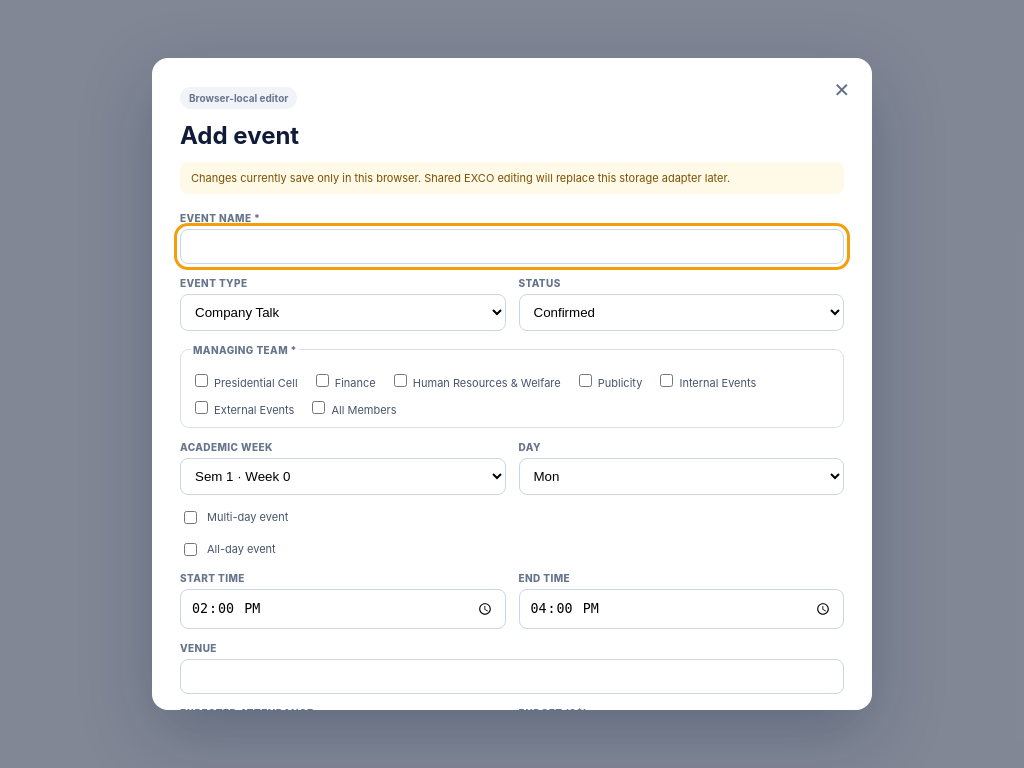
Test: EventEditor › warns before Escape discards a dirty form
Type "Unsaved event" into the field labelled "Event name *". click: point(512, 246)
box: [180,229,844,264]
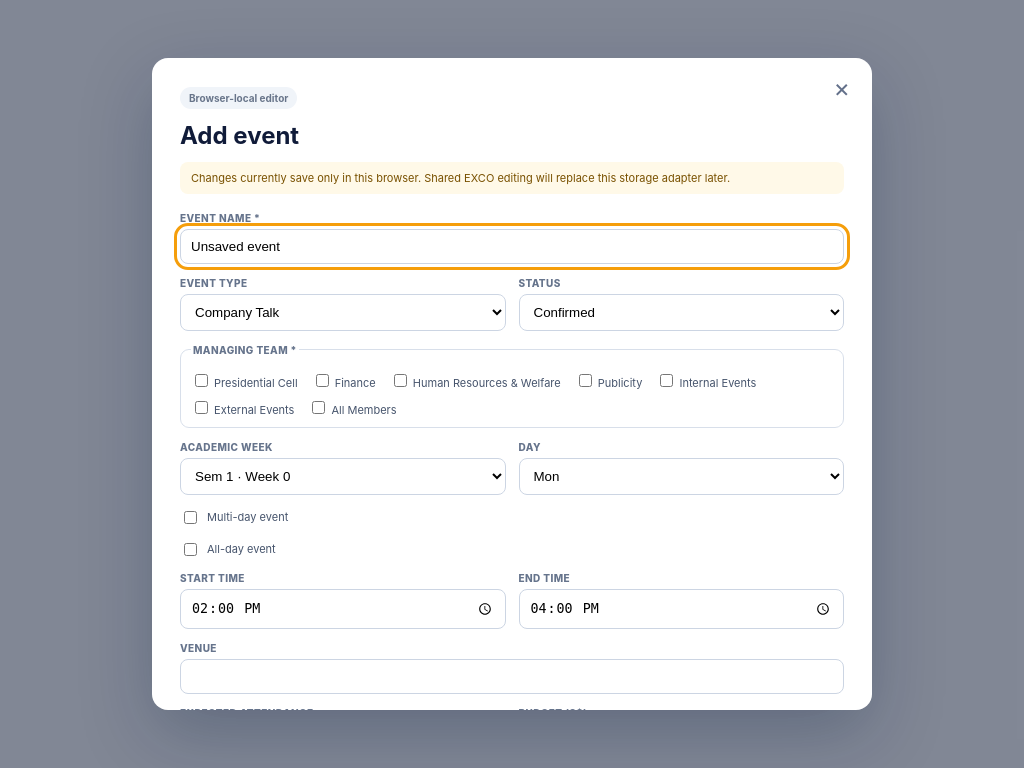
Press Escape
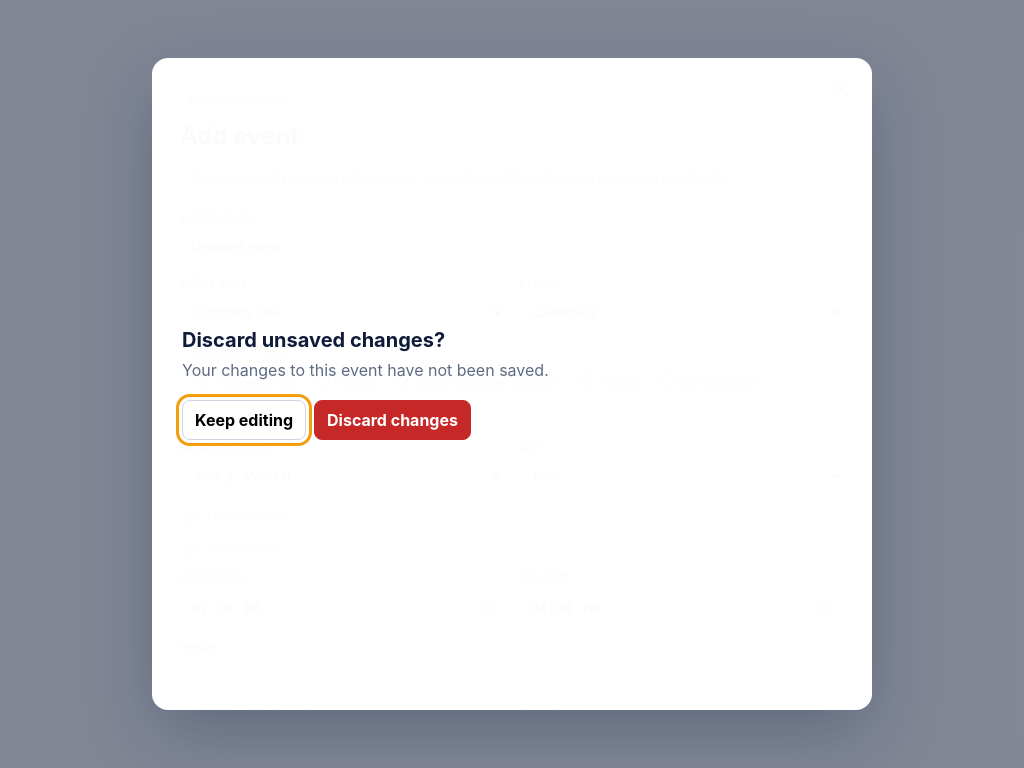
Check: the dialog "Discard unsaved changes" is shown, box [152,58,872,710]
